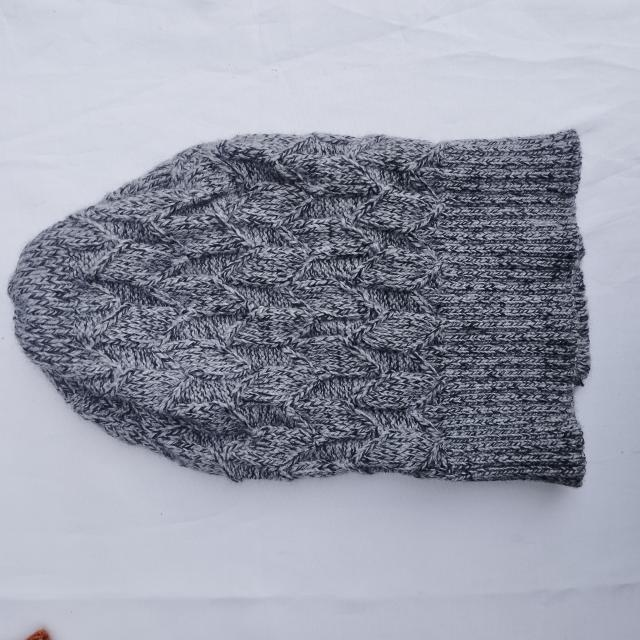Gorro: (7, 128, 592, 487)
